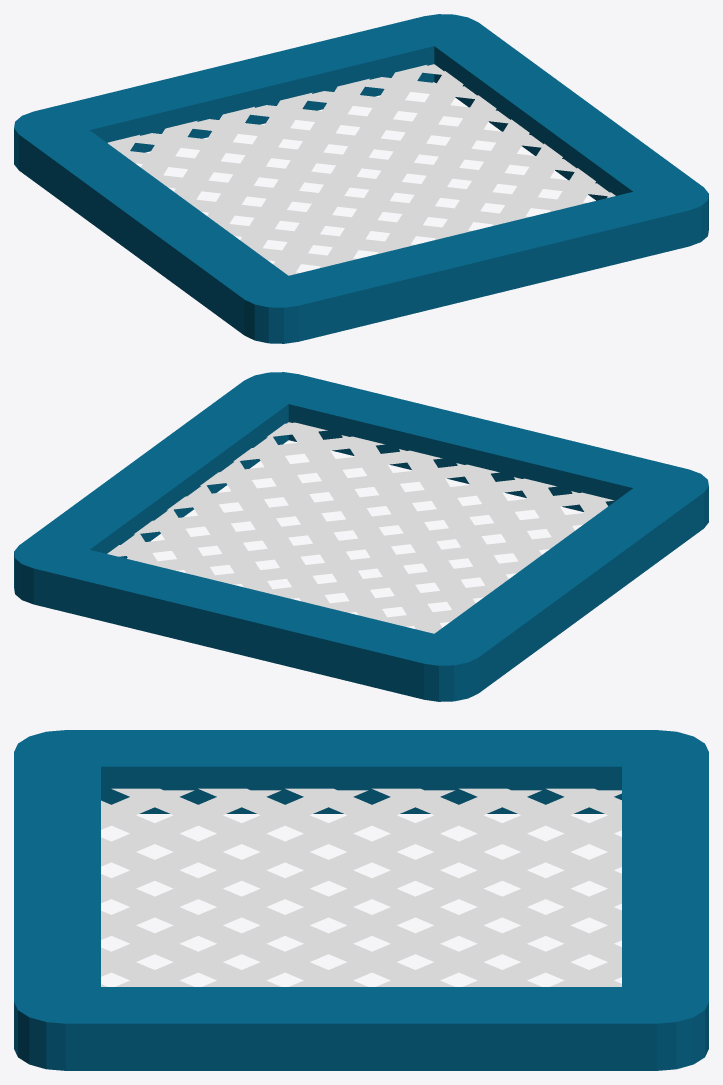
The model's file is G02_013_Floor_Mesh.fbx.
3 renders of one model, top to bottom at view 1: azimuth 30°, elevation 25°; view 2: azimuth 150°, elevation 25°; view 3: azimuth 270°, elevation 25°, orthographic. The views are drawn at different scales.
Parts seen in each view (by area): view 1: 003_Mesh_B, 平面.040, 平面.039; view 2: 003_Mesh_B, 平面.040, 平面.039; view 3: 003_Mesh_B, 平面.040, 平面.039.
Part boxes in pixels (bbox=[...]): 003_Mesh_B: bbox=[14, 14, 708, 343]; 平面.040: bbox=[108, 65, 615, 275]; 平面.039: bbox=[126, 64, 609, 274]; 003_Mesh_B: bbox=[14, 372, 708, 701]; 平面.040: bbox=[107, 422, 614, 633]; 平面.039: bbox=[121, 422, 607, 632]; 003_Mesh_B: bbox=[14, 730, 708, 1070]; 平面.040: bbox=[101, 788, 621, 986]; 平面.039: bbox=[101, 790, 621, 986].
Bounding box in the file's own units: 400 × 30 × 400.
